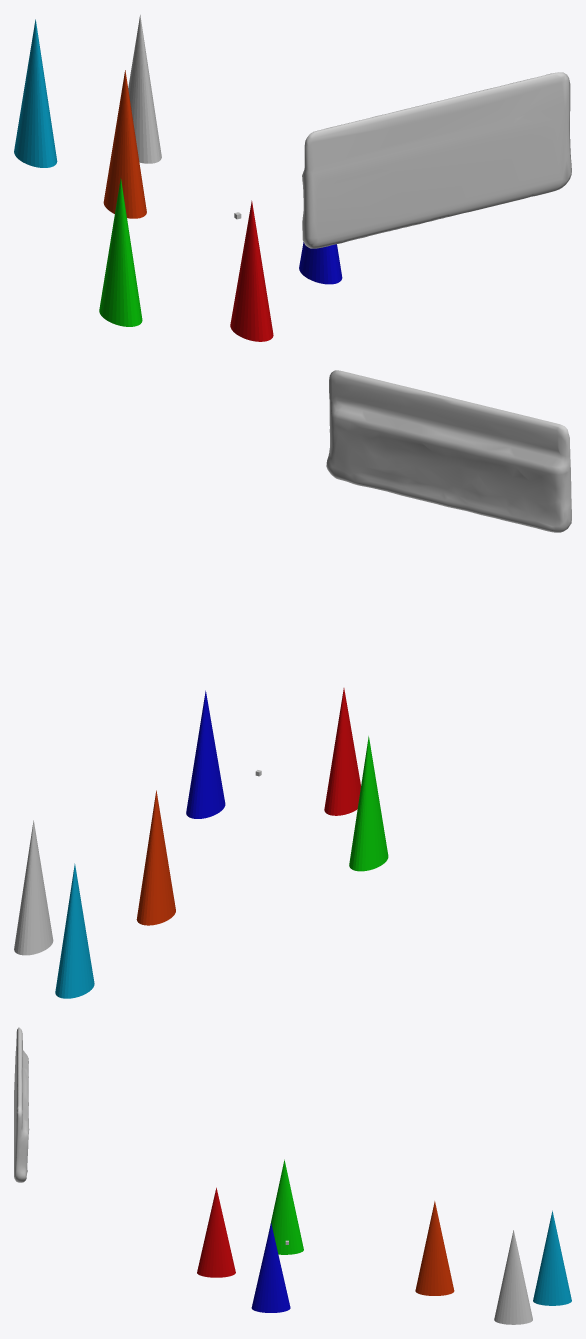
The picture shows the model from 3 angles, top to bottom: view 1: azimuth 30°, elevation 25°; view 2: azimuth 150°, elevation 25°; view 3: azimuth 270°, elevation 25°; orthographic projection. The views are drawn at different scales.
Visible parts, largest first — view 1: Liquid_Domain, 円錐.003, 円錐.005, 円錐.001, 円錐.004, 円錐, 円錐.002; view 2: Liquid_Domain, 円錐, 円錐.003, 円錐.005, 円錐.004, 円錐.002, 円錐.001; view 3: Liquid_Domain, 円錐.005, 円錐, 円錐.004, 円錐.001, 円錐.002, 円錐.003.
Boxes of the visible parts, x1,y1,x2,y2 form: Liquid_Domain: (302, 72, 571, 248); 円錐.003: (99, 178, 142, 326); 円錐.005: (14, 19, 57, 167); 円錐.001: (230, 200, 273, 341); 円錐.004: (103, 70, 146, 218); 円錐: (128, 15, 161, 163); 円錐.002: (299, 242, 342, 284); Liquid_Domain: (326, 370, 571, 532); 円錐: (14, 820, 53, 955); 円錐.003: (349, 736, 388, 871); 円錐.005: (55, 863, 94, 998); 円錐.004: (136, 790, 175, 925); 円錐.002: (186, 690, 225, 818); 円錐.001: (324, 688, 360, 815); Liquid_Domain: (14, 1027, 29, 1182); 円錐.005: (533, 1210, 571, 1305); 円錐: (494, 1230, 532, 1324); 円錐.004: (415, 1201, 454, 1295); 円錐.001: (197, 1187, 235, 1277); 円錐.002: (251, 1223, 290, 1312); 円錐.003: (270, 1159, 303, 1254).
Size of the model in its own units: 124 by 158 by 343.
